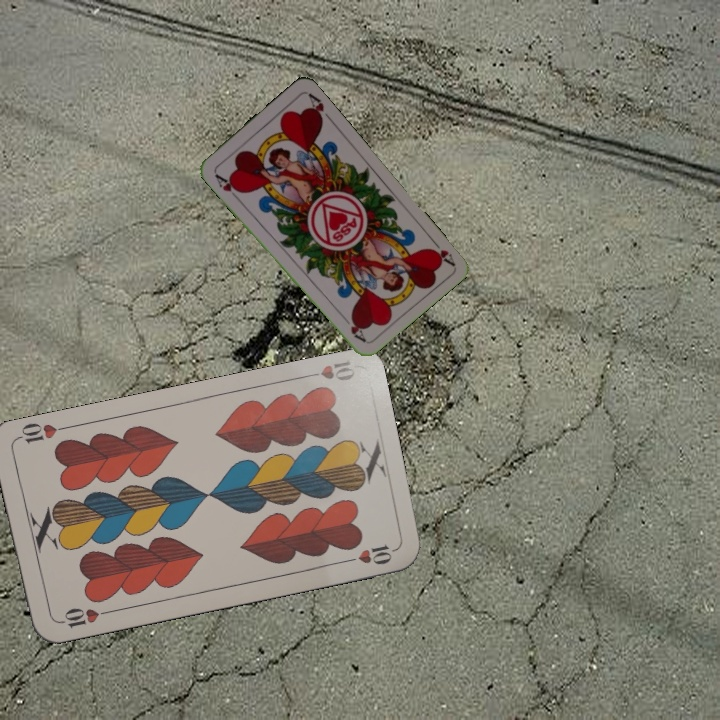H10: (54, 603, 113, 631), (299, 356, 358, 384)
HA: (210, 169, 244, 202), (426, 233, 457, 268)
